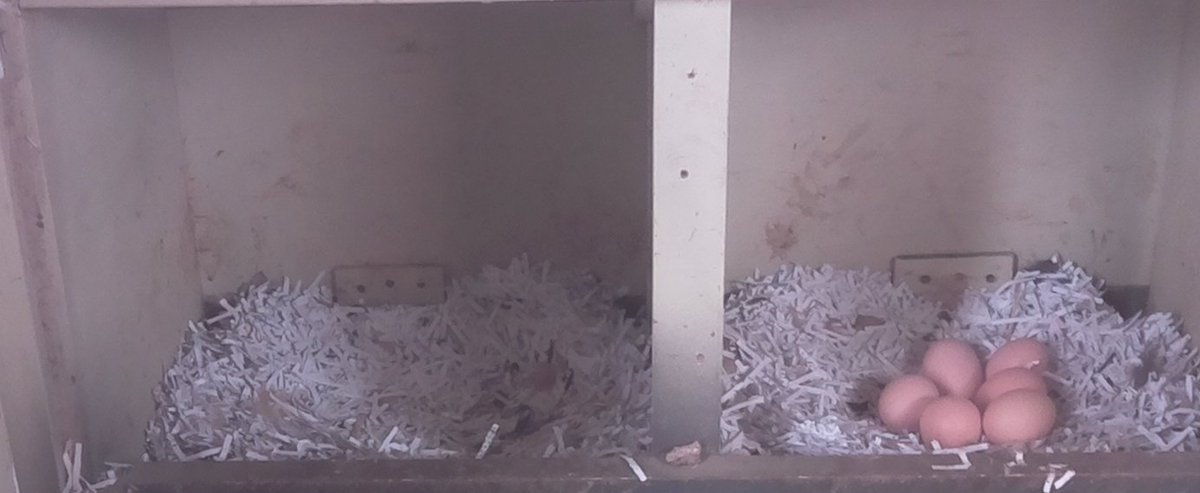egg: (918, 329, 986, 403), (980, 387, 1061, 445), (876, 368, 940, 440), (911, 392, 988, 450), (979, 337, 1055, 374), (979, 368, 1052, 399)
